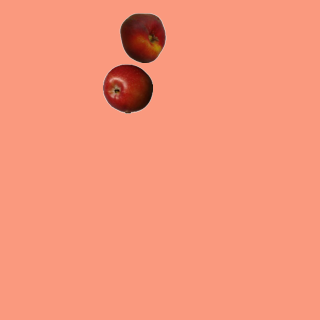Apple Braeburn: (102, 63, 152, 113)
Nectarine Flat: (117, 12, 167, 62)
